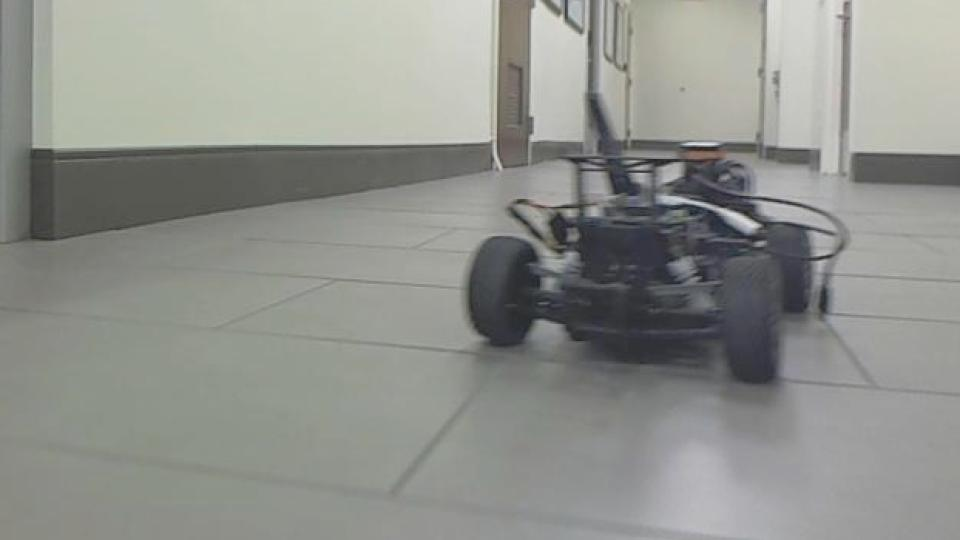car: (462, 144, 854, 386)
